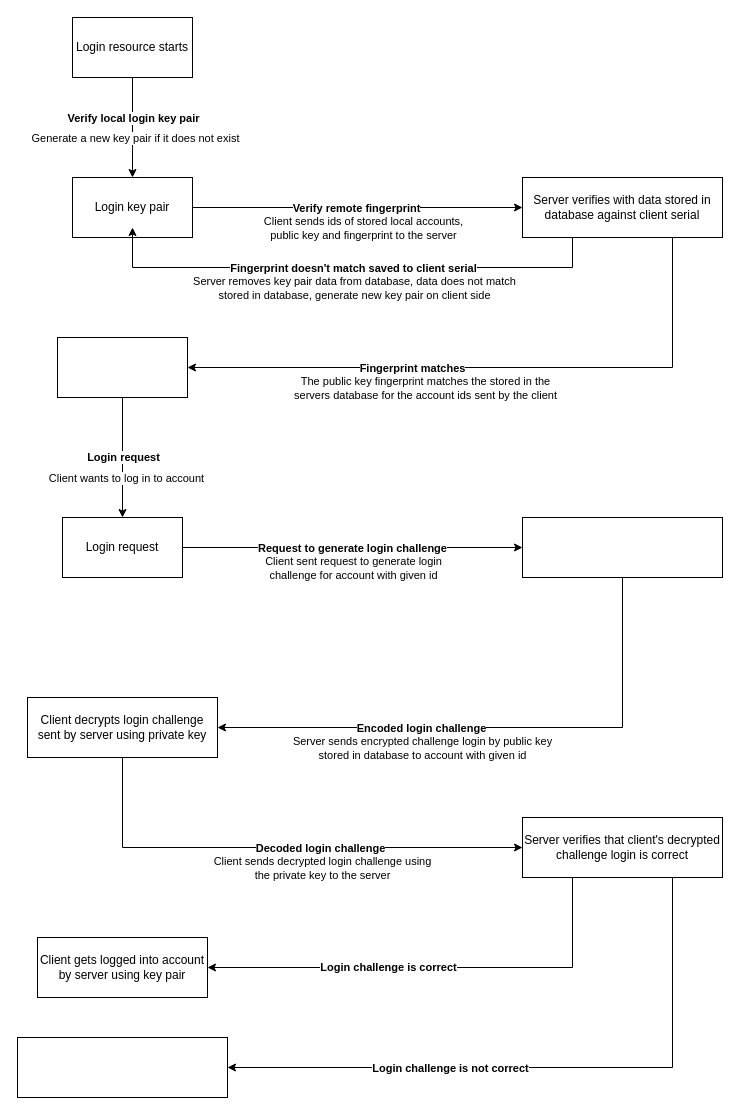
The diagram is 740 pixels wide and 1115 high, and some of its shapes have lost their labels. Here are the shapes that lost their labels. From the top down, the box of each, then its label:
(56, 336, 188, 398): List of verified account based on fingerprint
(522, 516, 722, 578): Server generates challenge to log in to account with id sent by client
(16, 1036, 228, 1098): Client decrypted challenge login is not valid, do not log in to account
